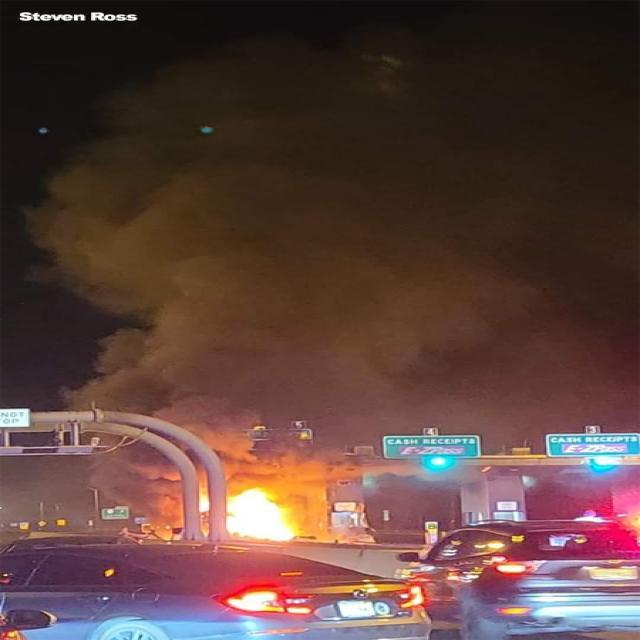Fire: (228, 487, 312, 542)
Smoke: (38, 63, 569, 420)
